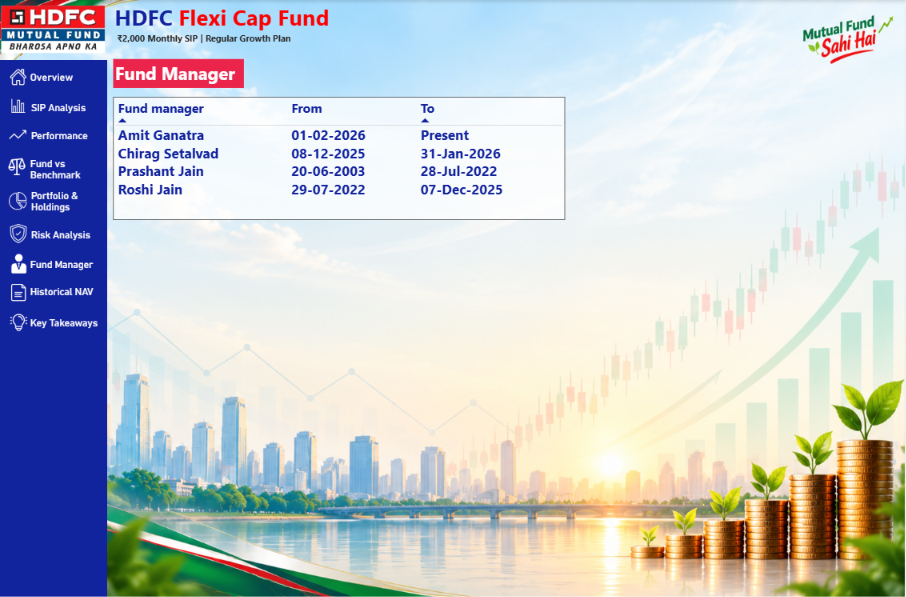

This screenshot's page, from the dashboard's own definition file:
{"tool":"powerbi","page":{"name":"Fund Manager","canvas":[2200,1450],"ordinal":6},"visuals":[{"type":"textbox","box":[275.9,144.4,317.4,70],"z":0},{"type":"shape","box":[-0.3,145.5,262.4,1306.2],"z":1000},{"type":"image","box":[18.4,163.9,53.3,49.2],"z":2000},{"type":"image","box":[16.4,235.6,59.4,43],"z":3000},{"type":"image","box":[20.5,297.1,51.2,61.5],"z":4000},{"type":"image","box":[12.3,377,61.5,57.4],"z":5000},{"type":"image","box":[16.4,461,55.3,53.3],"z":6000},{"type":"image","box":[16.4,532.7,59.4,69.7],"z":7000},{"type":"image","box":[18.4,612.6,57.4,57.4],"z":8000},{"type":"image","box":[22.5,686.3,55.3,51.2],"z":9000},{"type":"image","box":[22.5,756,51.2,55.3],"z":10000},{"type":"actionButton","title":"Performance","box":[77.6,315.6,167.7,61.3],"z":11000},{"type":"actionButton","title":"Fund vs Benchmark","box":[76.2,383.3,169.4,76.2],"z":12000},{"type":"actionButton","title":"Portfolio &  Holdings","box":[77.9,461,184.4,71.7],"z":13000},{"type":"actionButton","title":"Risk Analysis","box":[77.6,555.5,167.7,64.9],"z":14000},{"type":"actionButton","title":"SIP Analysis","box":[77.9,247.9,168,61.5],"z":15000},{"type":"actionButton","title":"Fund Manager","box":[75.8,629,172.1,57.4],"z":16000},{"type":"actionButton","title":"Historical NAV","box":[75.8,694.5,178.2,79.9],"z":17000},{"type":"actionButton","title":"Key Takeaways","box":[75.8,770.3,188.5,63.5],"z":18000},{"type":"textbox","box":[262.5,0,557.5,81.7],"z":19000},{"type":"textbox","box":[282.5,72.5,457.5,38.8],"z":20000},{"type":"image","box":[0,0,262.1,142.8],"z":21000},{"type":"tableEx","fields":{"Values":["Fund_Manager_History.Fund manager","Fund_Manager_History.From","Fund_Manager_History.To"]},"box":[276.3,236.6,1097.4,298.2],"z":22000},{"type":"actionButton","title":"Overview","box":[75.5,173,133.2,63.6],"z":23000}]}

Visuals, with their boxes in screenshot pixels (x1, y1, x2, y2), scaled from the page's 2200x1450 canvas onto the 906x597 screenshot:
textbox: (114, 59, 244, 88)
shape: (0, 60, 108, 596)
image: (8, 67, 30, 88)
image: (7, 97, 31, 115)
image: (8, 122, 30, 148)
image: (5, 155, 30, 179)
image: (7, 190, 30, 212)
image: (7, 219, 31, 248)
image: (8, 252, 31, 276)
image: (9, 283, 32, 304)
image: (9, 311, 30, 334)
"Performance" actionButton: (32, 130, 101, 155)
"Fund vs Benchmark" actionButton: (31, 158, 101, 189)
"Portfolio &  Holdings" actionButton: (32, 190, 108, 219)
"Risk Analysis" actionButton: (32, 229, 101, 255)
"SIP Analysis" actionButton: (32, 102, 101, 127)
"Fund Manager" actionButton: (31, 259, 102, 283)
"Historical NAV" actionButton: (31, 286, 105, 319)
"Key Takeaways" actionButton: (31, 317, 109, 343)
textbox: (108, 0, 338, 34)
textbox: (116, 30, 305, 46)
image: (0, 0, 108, 59)
tableEx - Fund_Manager_History.Fund manager x Fund_Manager_History.From: (114, 97, 566, 220)
"Overview" actionButton: (31, 71, 86, 97)
